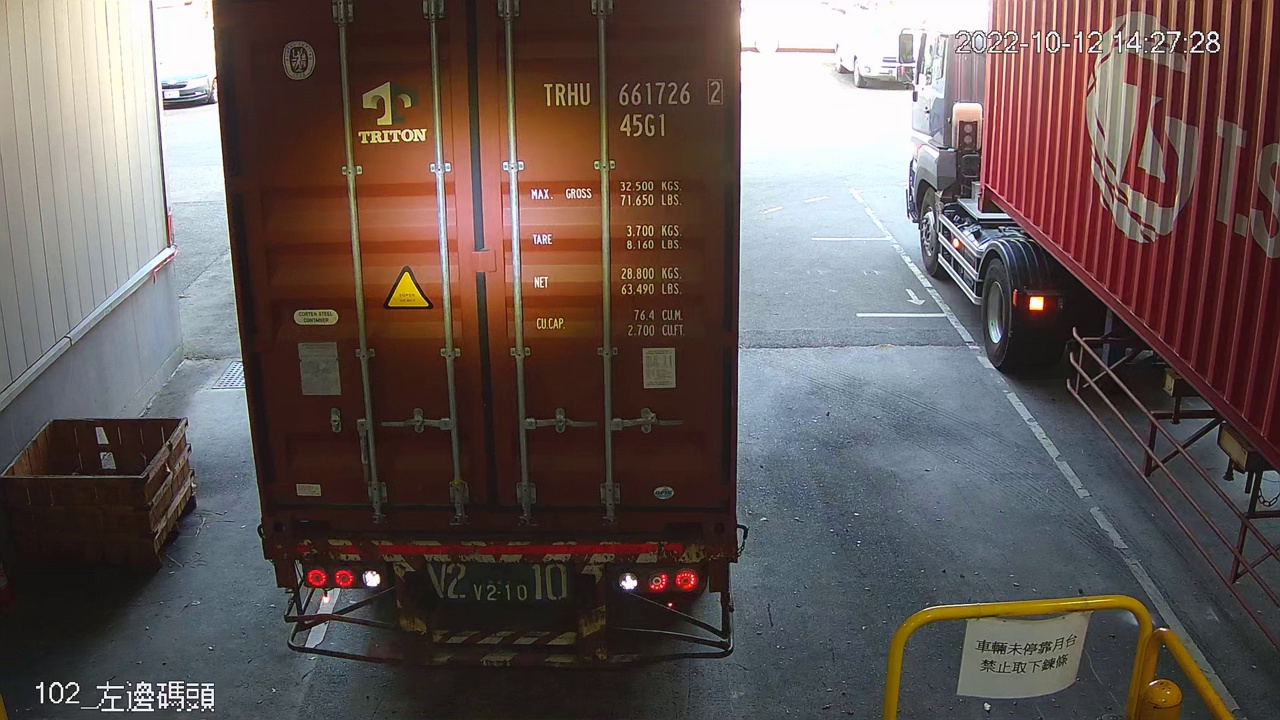container: (532, 70, 730, 147)
